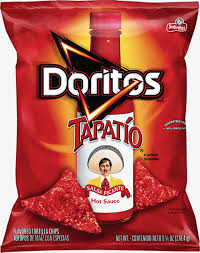Doritos: (5, 3, 200, 242)
